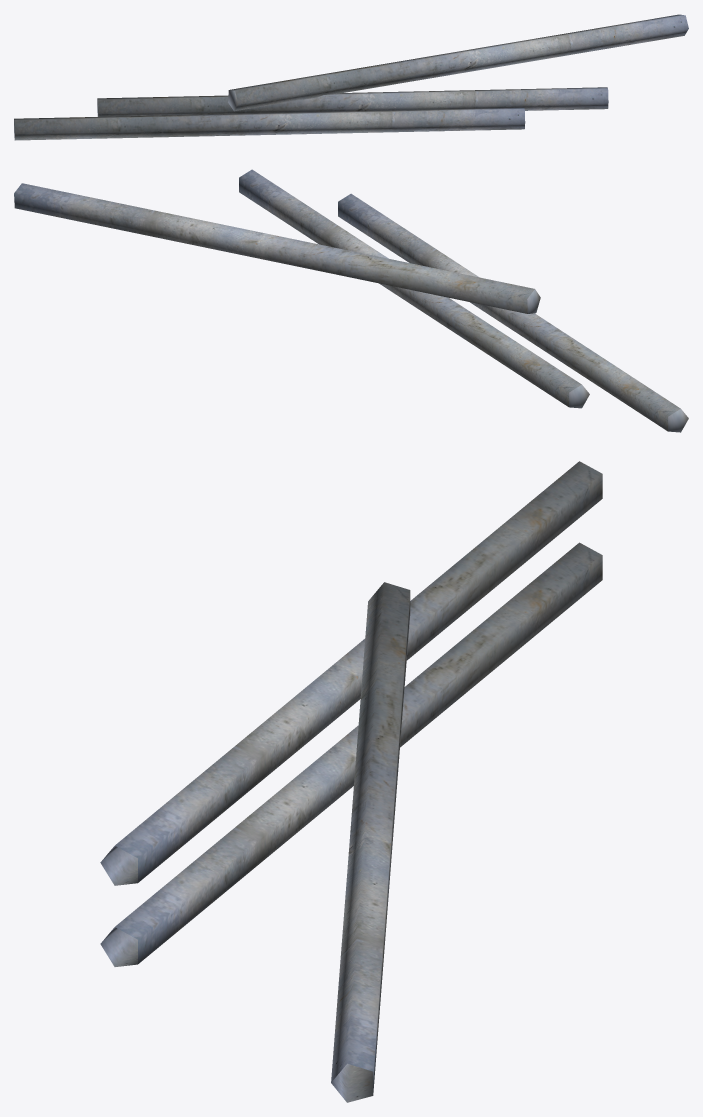
File: tubs.fbx
The picture shows the model from 3 angles, top to bottom: view 1: azimuth 30°, elevation 25°; view 2: azimuth 150°, elevation 25°; view 3: azimuth 270°, elevation 25°; orthographic projection. The views are drawn at different scales.
Parts seen in each view (by area): view 1: tubs; view 2: tubs; view 3: tubs.
Part boxes in pixels (box(x1,y1,x2,y2)): tubs: box(14, 14, 688, 140); tubs: box(14, 169, 688, 432); tubs: box(100, 461, 602, 1102).
Size of the model in its own units: 3.02 by 0.2131 by 1.07.
